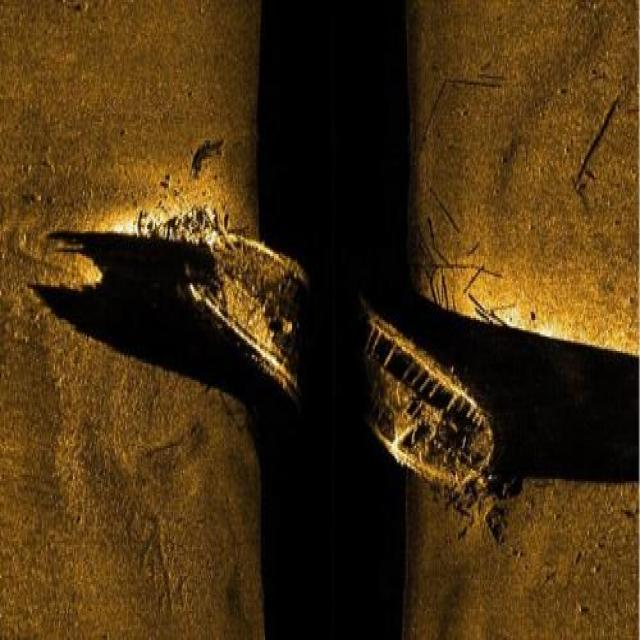ship: (138, 198, 493, 498)
